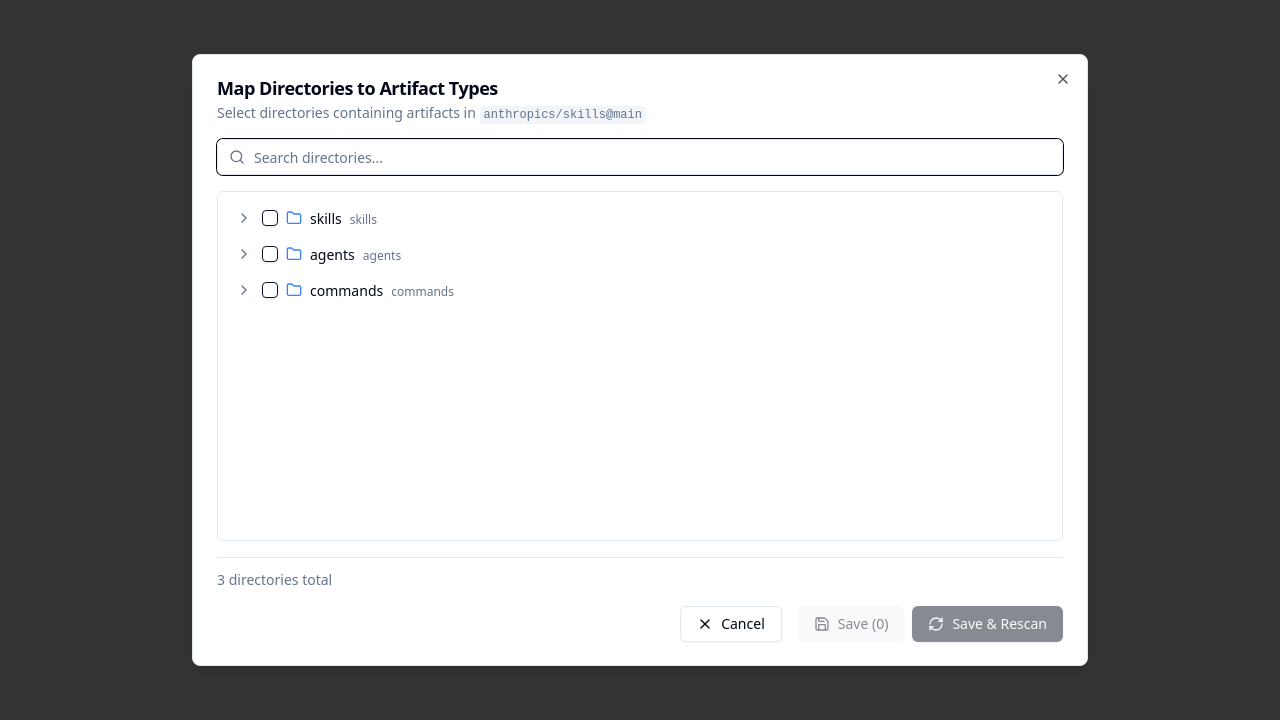
Test: DirectoryMapModal › dirty state tracking › continues editing when keep editing is clicked
Note: Make changes
Click the checkbox named "Select skills directory". click: (270, 218)
box: [262, 210, 278, 226]
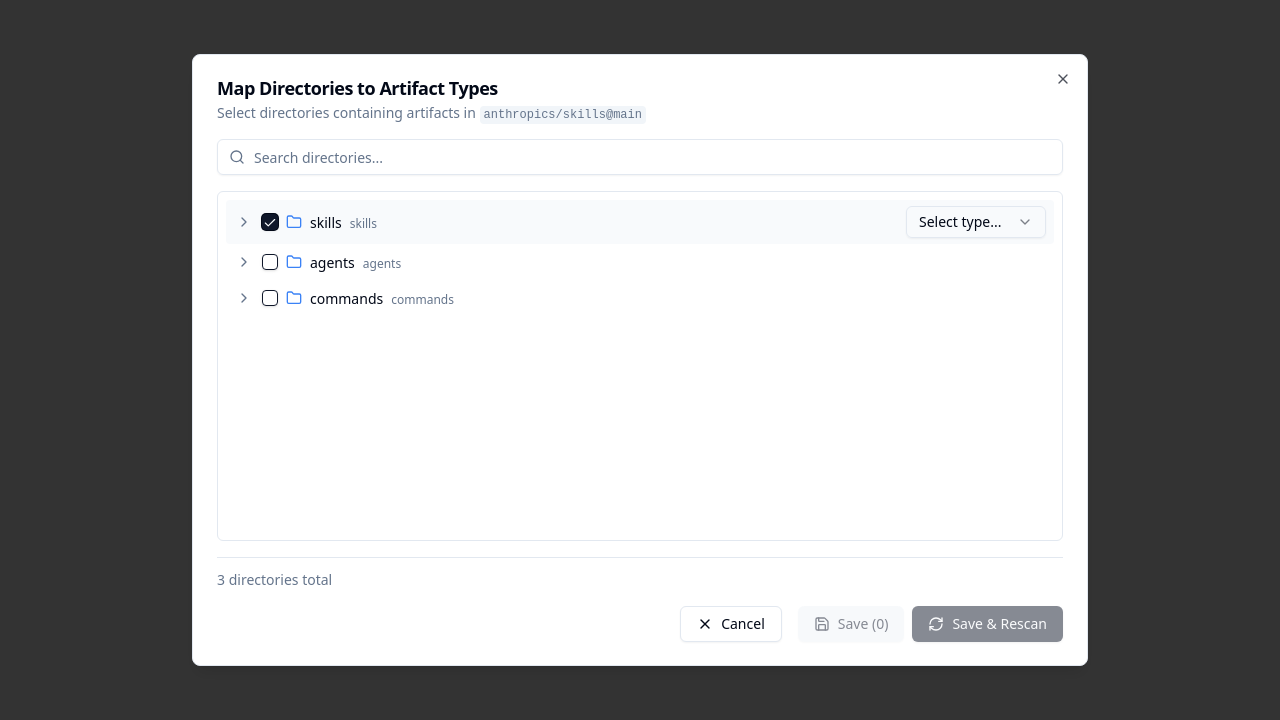
Note: Try to cancel
Click the button "Cancel". click: (731, 624)
box: [680, 606, 782, 642]
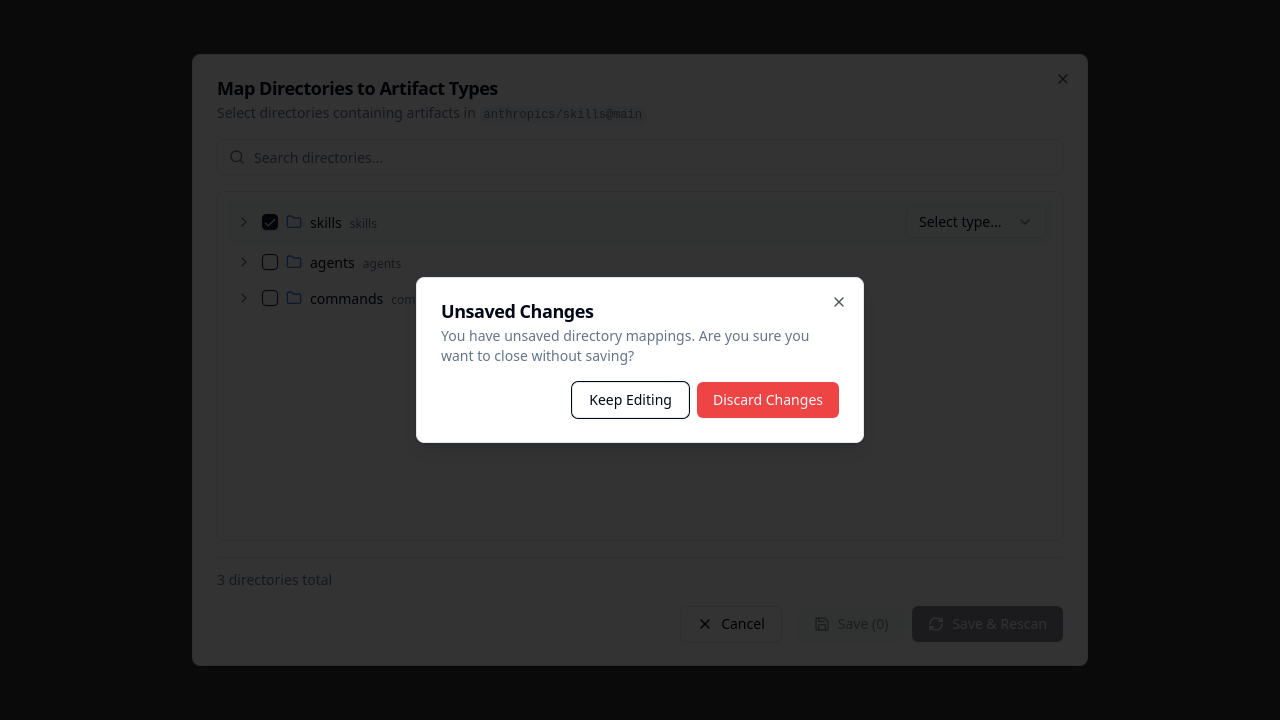
Check: the heading "Unsaved Changes" is shown, box [441, 299, 593, 323]
Click the button "Keep Editing". click: (631, 400)
box: [572, 382, 689, 418]
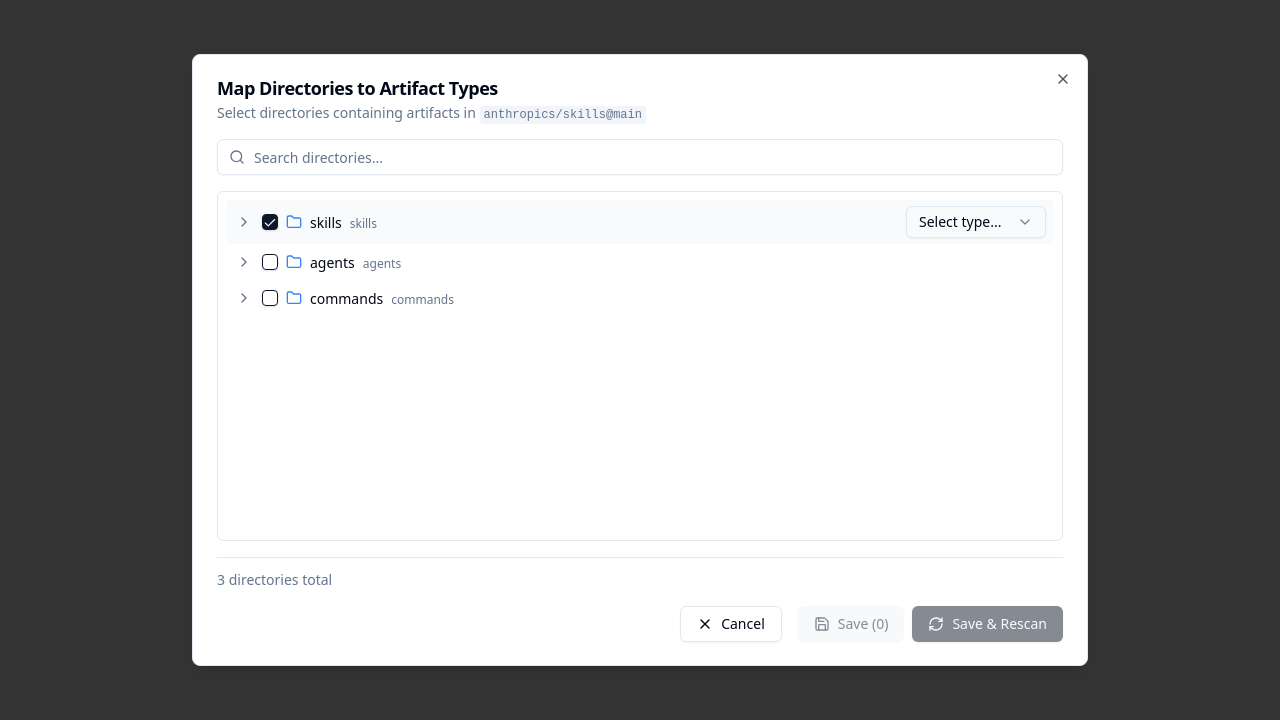
Check: the heading "Unsaved Changes" is gone
